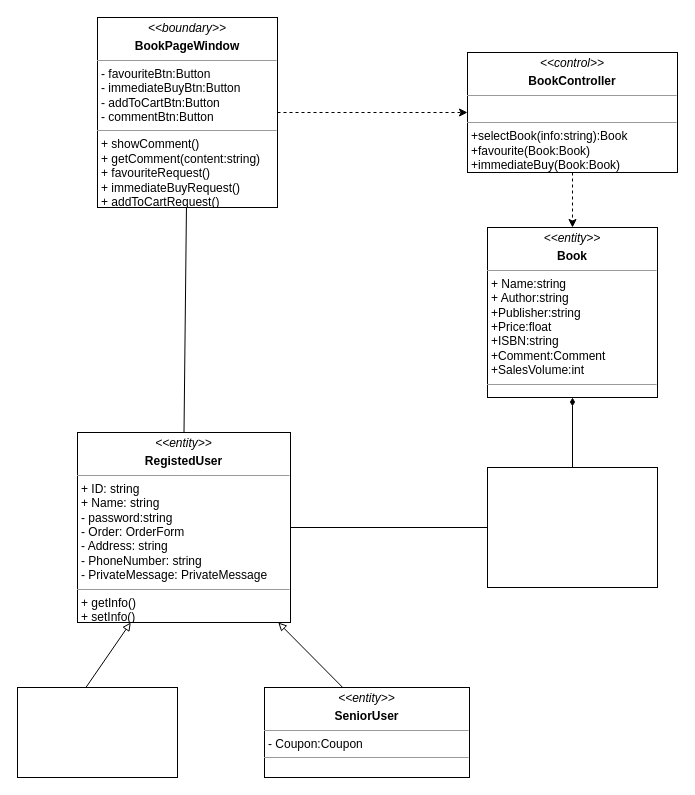
Some shapes in this 695 by 795 pixel diagram are drawn without their labels. The shapes that lost their labels are listed below. From the top down, each one's centre as x and y in pixels, then its label:
At pixel 572 527: "<<entity>> Comment + Content:string + Commentator:RegisterUser + Time:String".
At pixel 97 732: "<<entity>> OrdinaryUser".
